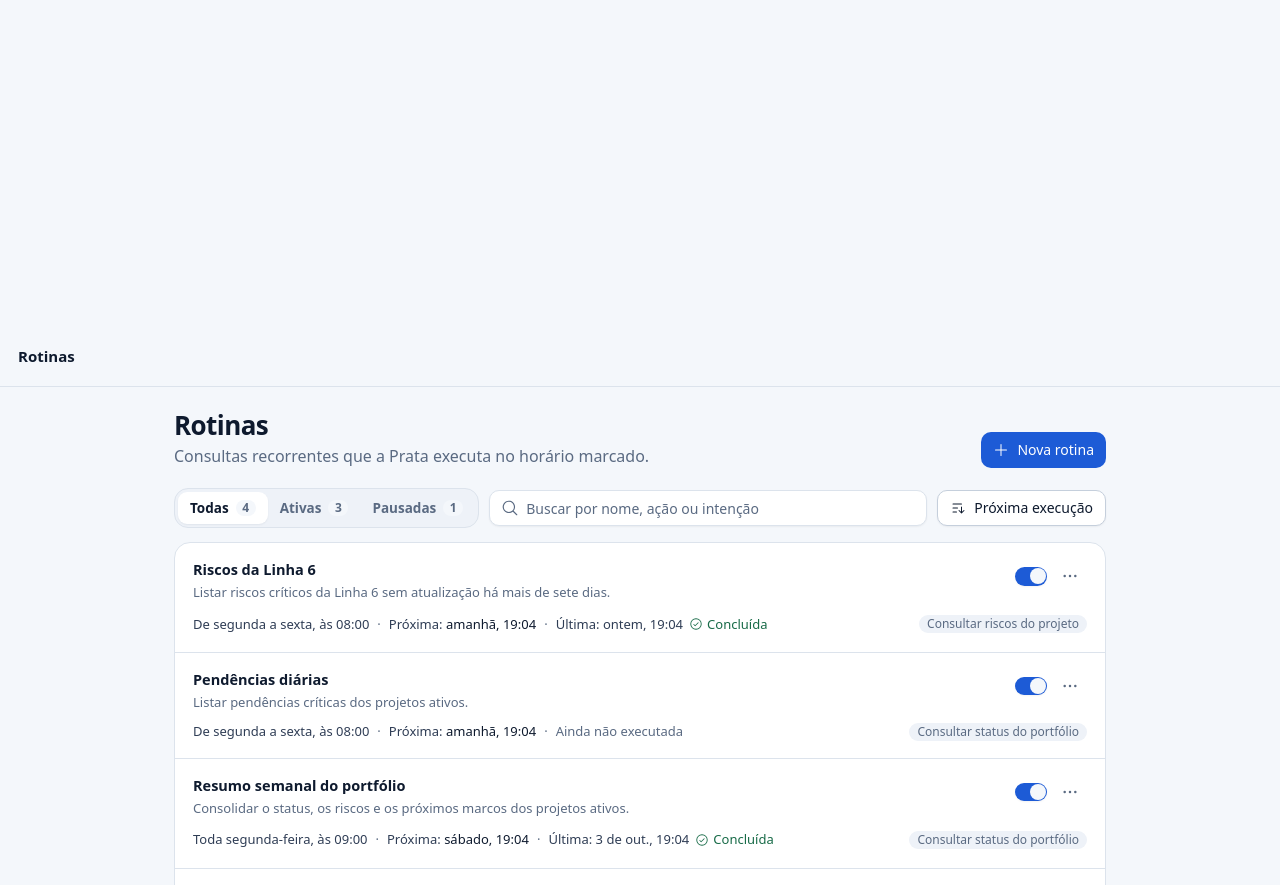
Test case: Página de rotinas › mostra apenas o complemento necessário para agendas semanais e mensais
The image size is (1280, 885).
(page scrolled)
Expected: the heading "Riscos da Linha 6" is shown, [193,559,316,579]
Click the button "Nova rotina" at (1044, 450), box [981,432,1106,468]
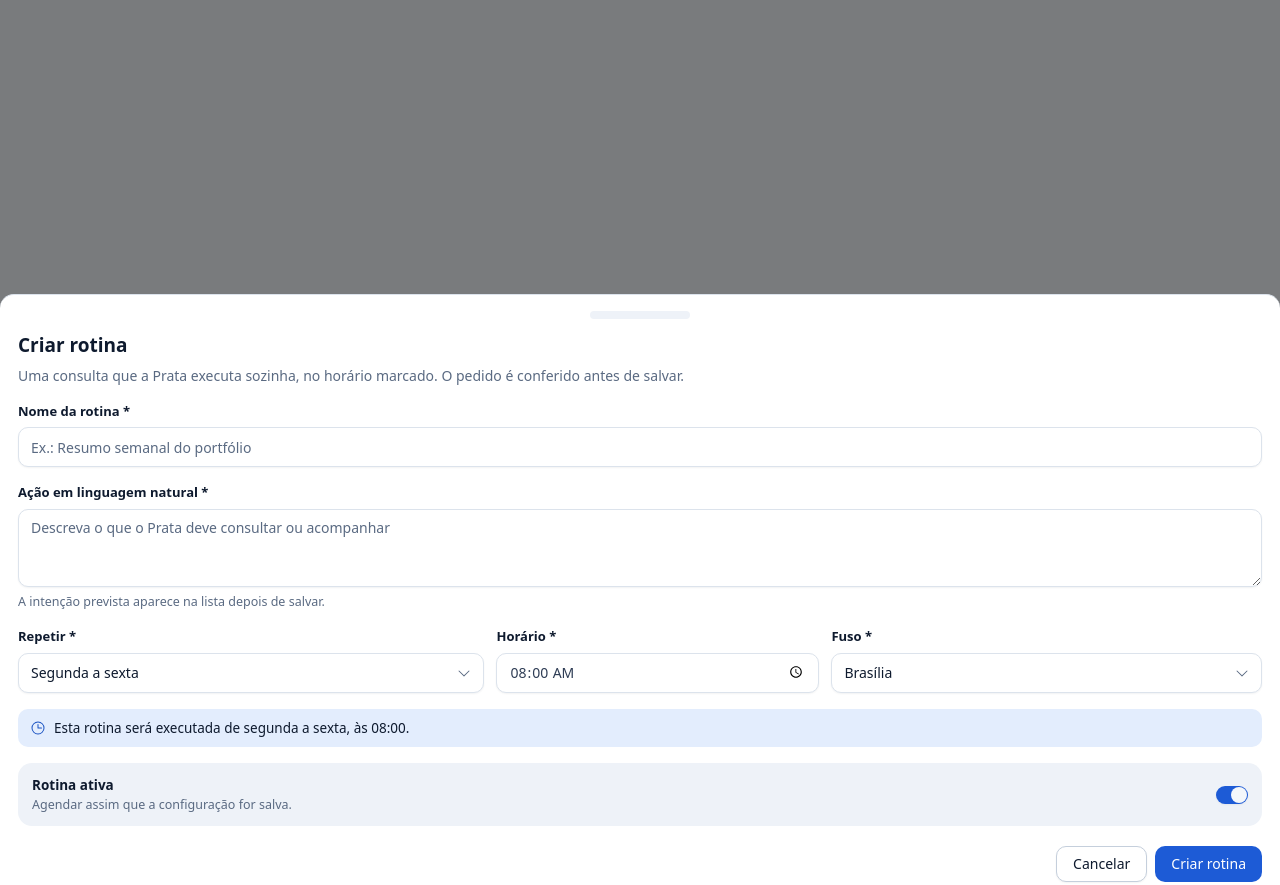
Select "Semanalmente" in the dropdown labelled "Repetir *" at (251, 672), box [18,652,484,692]
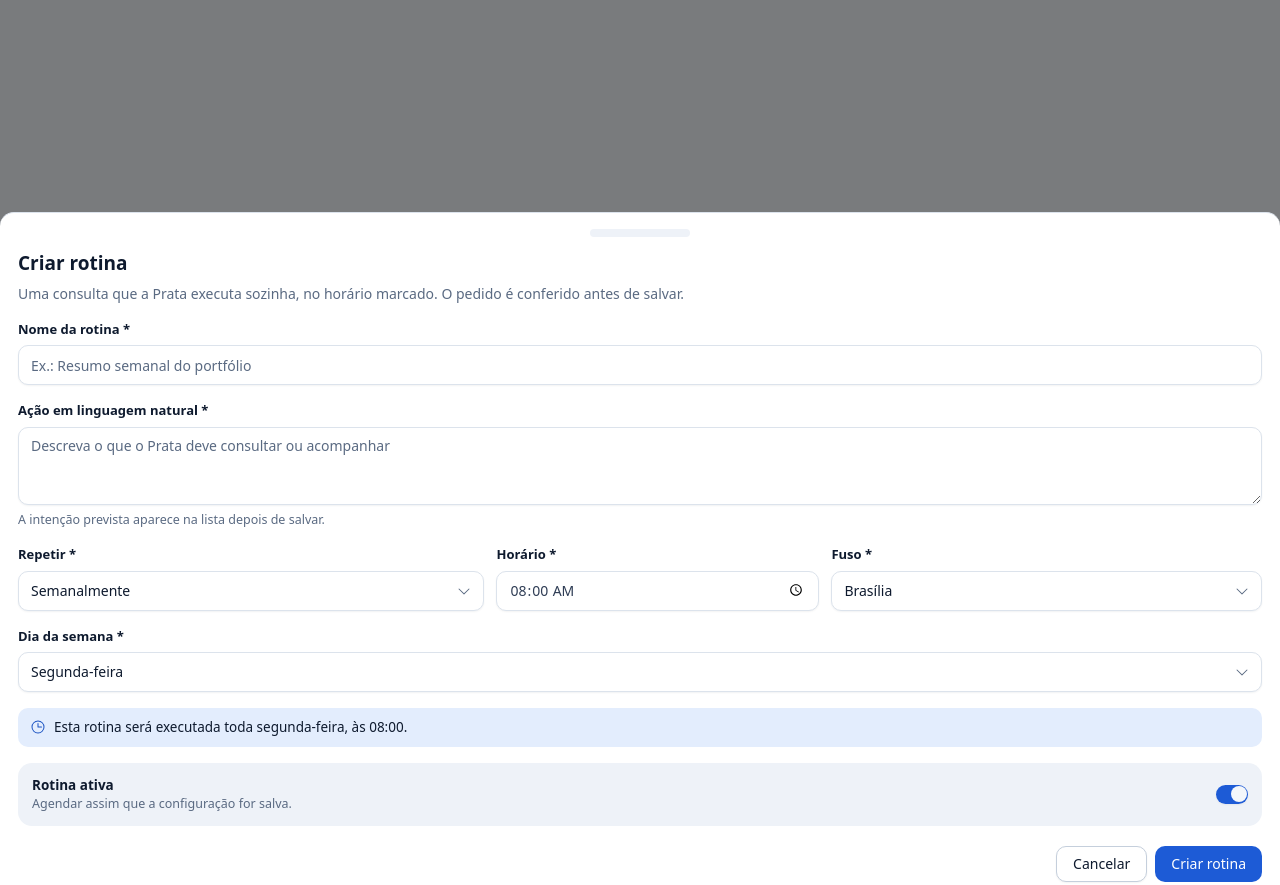
Expected: the field labelled "Dia do mês" is not shown
Expected: the dropdown labelled "Dia da semana *" is shown, [18,652,1262,692]
Expected: the text "Esta rotina será executada toda segunda-feira, às 08:00." is shown, [54,718,407,737]
Select "Mensalmente" in the dropdown labelled "Repetir *" at (251, 591), box [18,571,484,611]
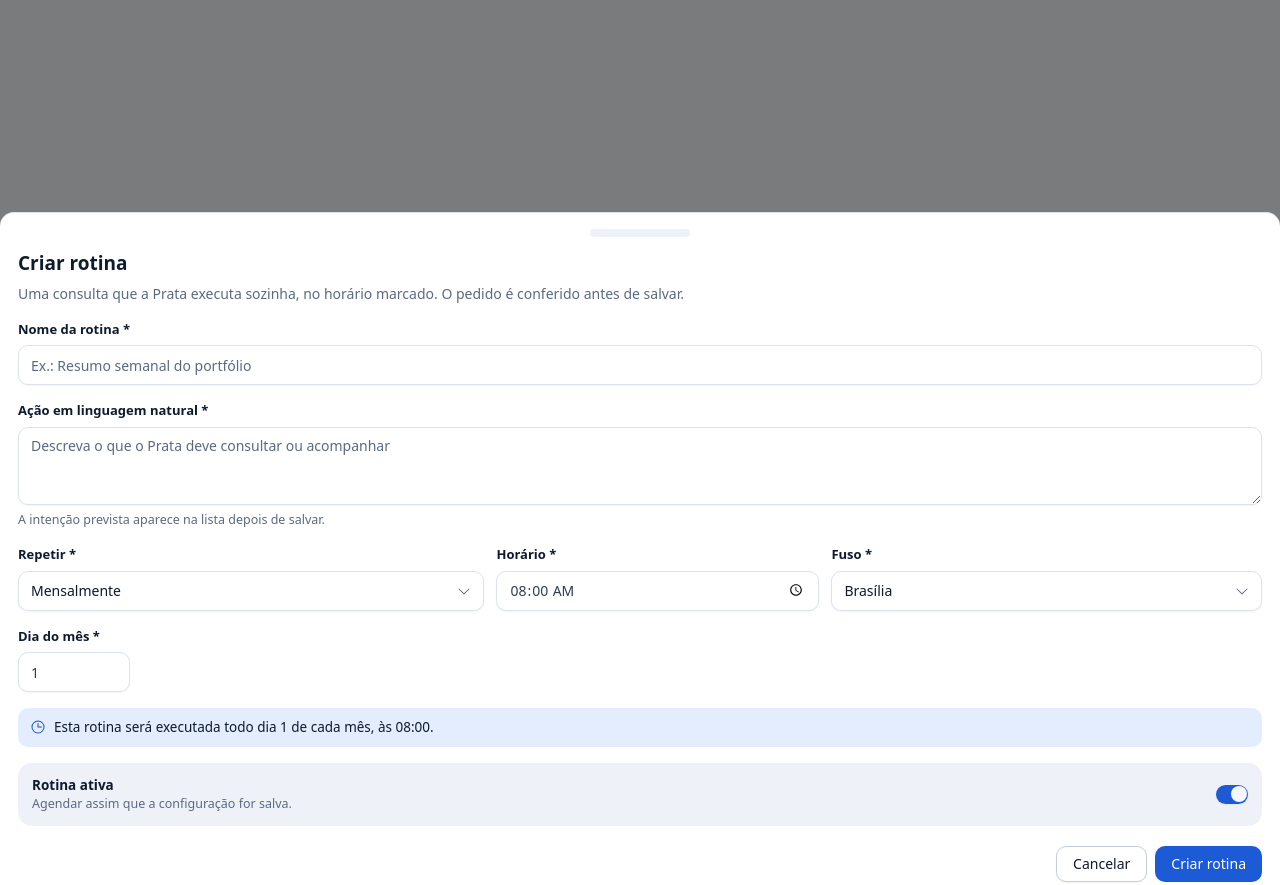
Expected: the number field labelled "Dia do mês *" is shown, [18,652,130,692]
Expected: the label "Dia da semana" is gone
Select "Dias personalizados" in the dropdown labelled "Repetir *" at (251, 591), box [18,571,484,611]
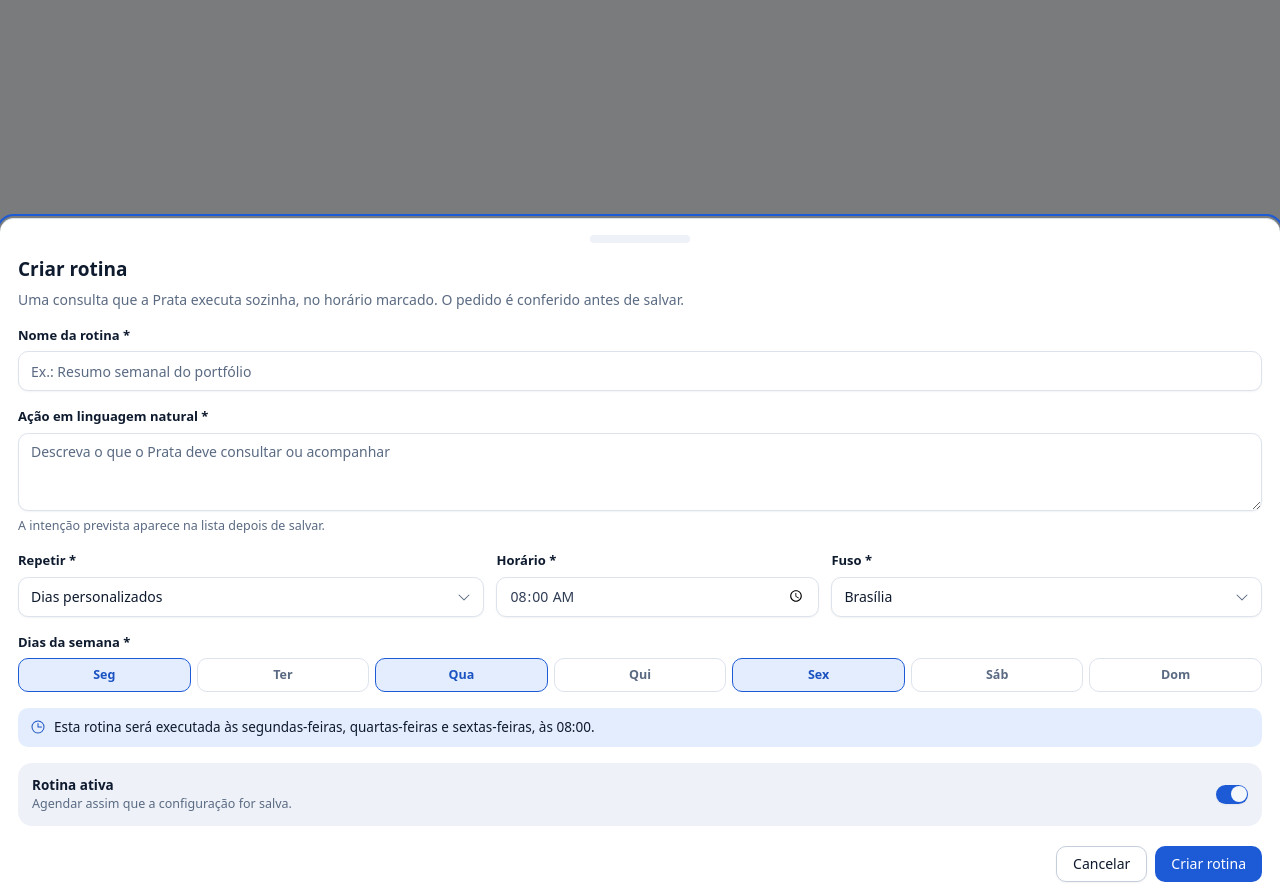
Expected: the 1st checkbox labelled "Seg" is checked, [18,658,191,692]
Expected: the 1st checkbox labelled "Qua" is checked, [375,658,548,692]
Expected: the 1st checkbox labelled "Sex" is checked, [732,658,905,692]
